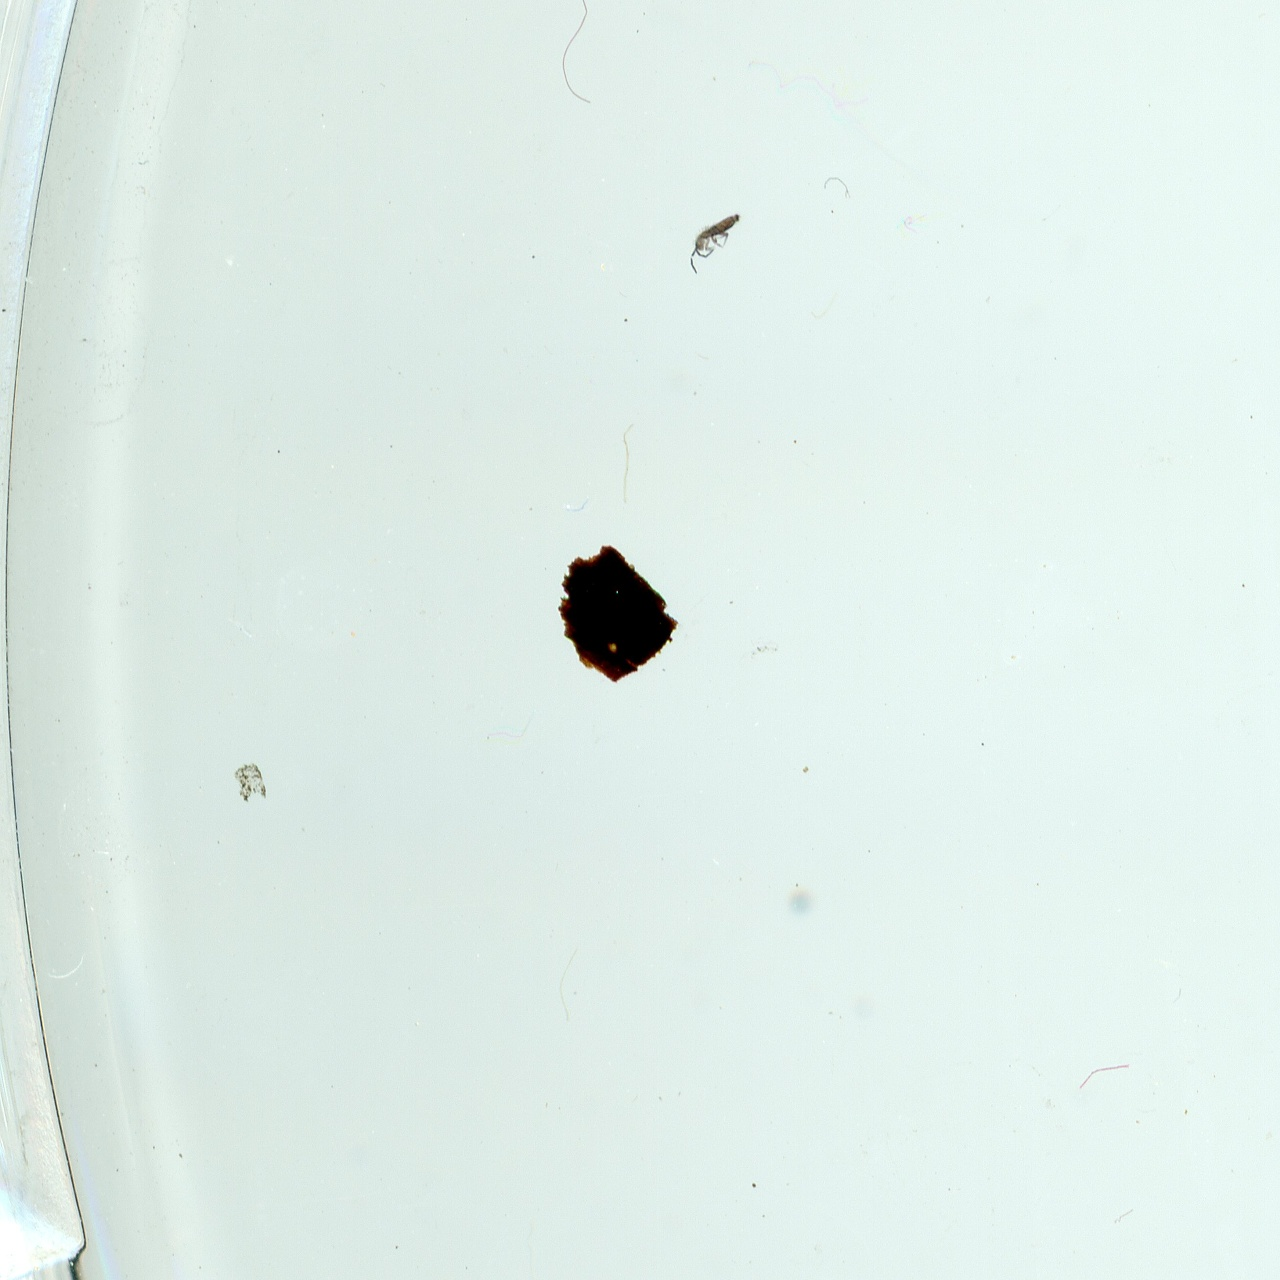arthropod: (669, 200, 764, 282)
